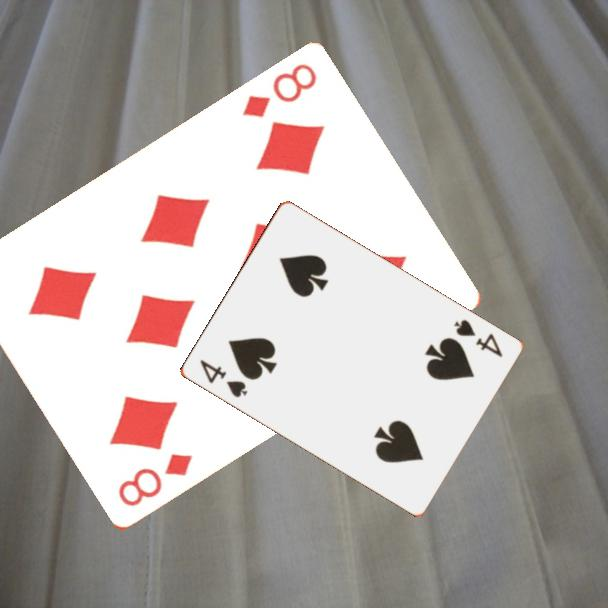d08: (238, 60, 320, 121), (114, 450, 196, 510)
s04: (196, 356, 250, 401), (450, 316, 505, 360)
